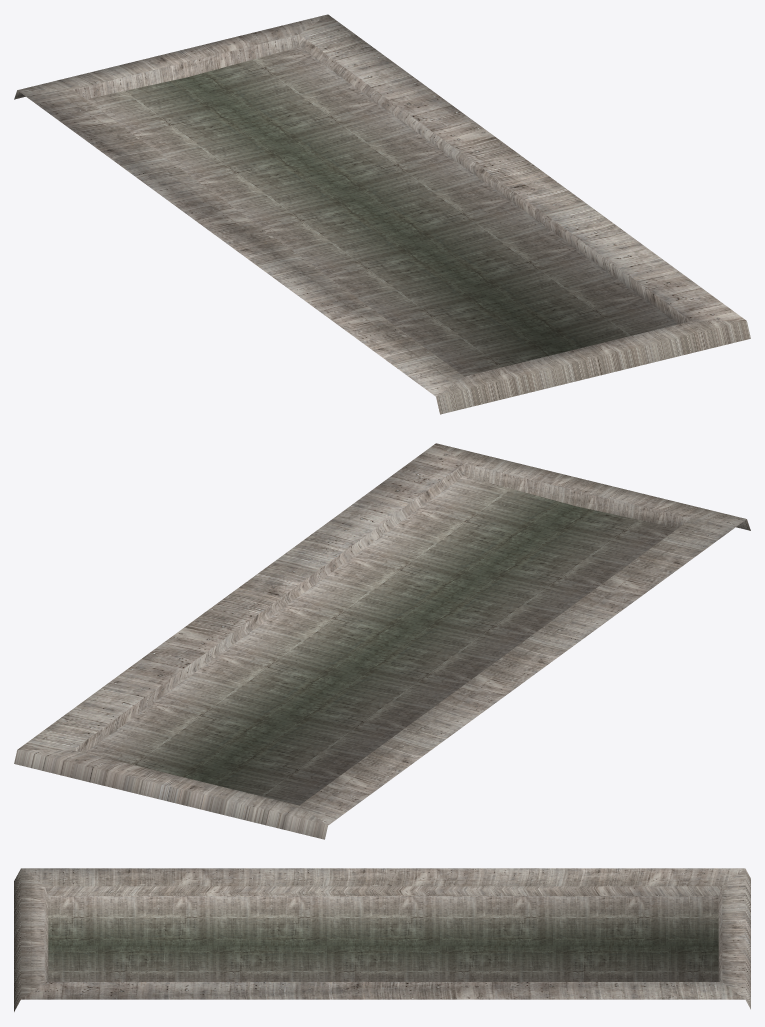
Rendered from Floor_Hall.fbx.
3 views of the same model, one above another, from view 1: azimuth 30°, elevation 25°; view 2: azimuth 150°, elevation 25°; view 3: azimuth 270°, elevation 25° (orthographic). The views are drawn at different scales.
Visible parts, largest first — view 1: Plane.014; view 2: Plane.014; view 3: Plane.014.
Part boxes in pixels (x1,y1,x2,y2): Plane.014: (14,14,750,414); Plane.014: (14,443,750,839); Plane.014: (14,868,750,1011).
Size of the model in its own units: 539 by 24.57 by 1279.
